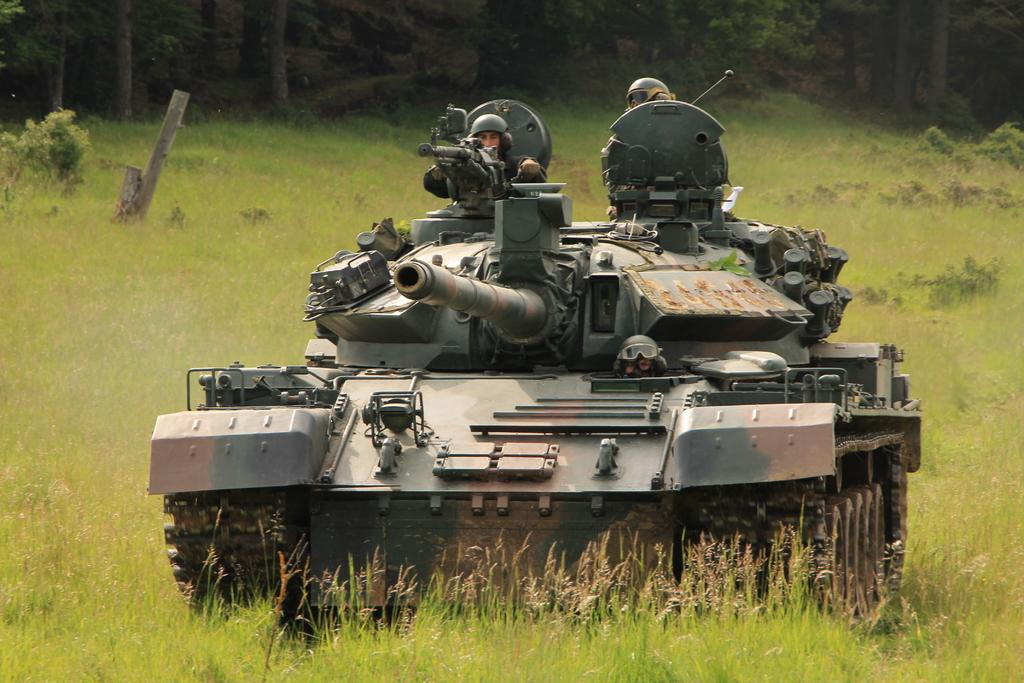Tank: (146, 72, 925, 623)
